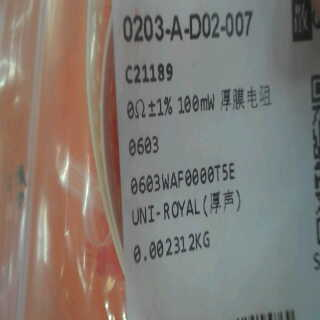0R: (123, 90, 176, 162)
